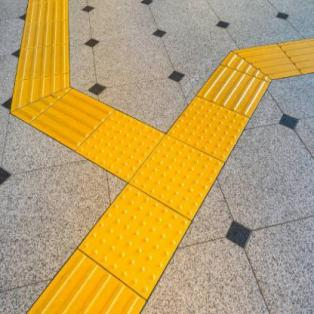Podoctatil: (9, 0, 314, 312)
